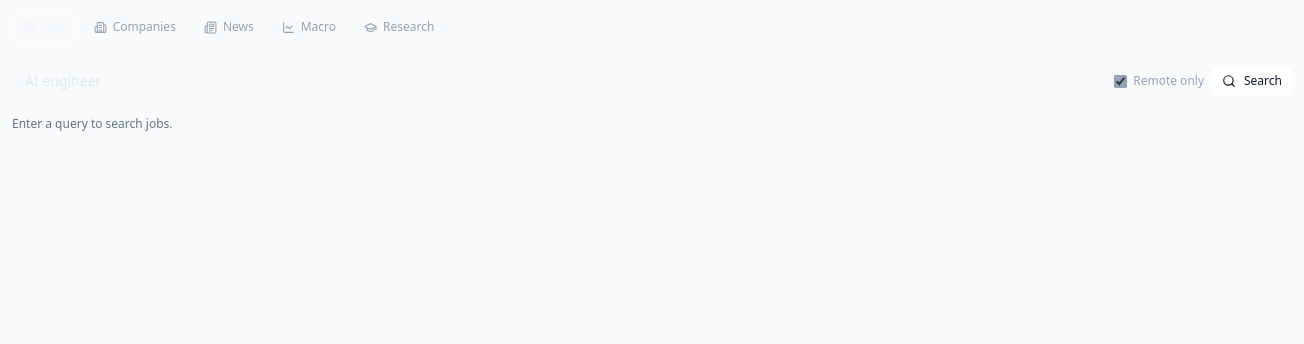
Test: scholarly card renders every verified field › renders 'Not available' for every missing field instead of hiding it
Click the tab "Research" at (399,27), box x1=353 y1=12 x2=446 y2=42
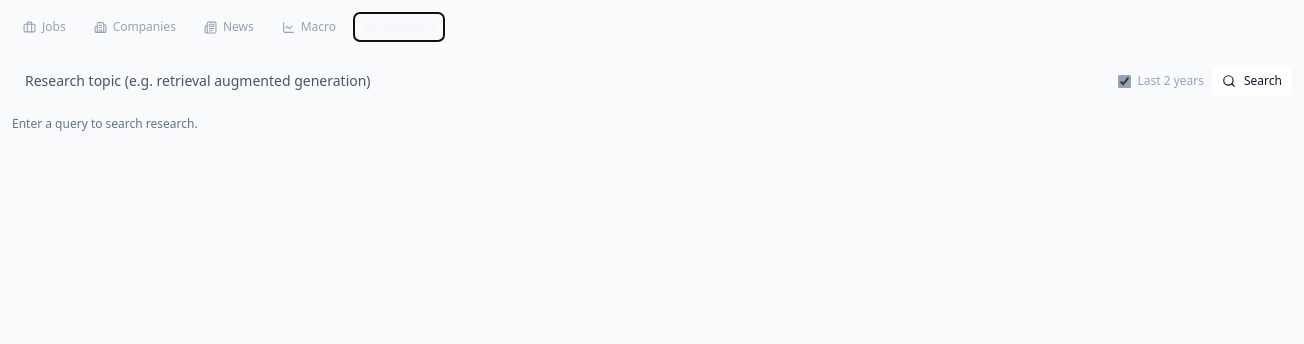
Type "ai" into the field with placeholder "Research topic (e.g. retrieval augmented generation)" at (561,81), box x1=12 y1=62 x2=1110 y2=100
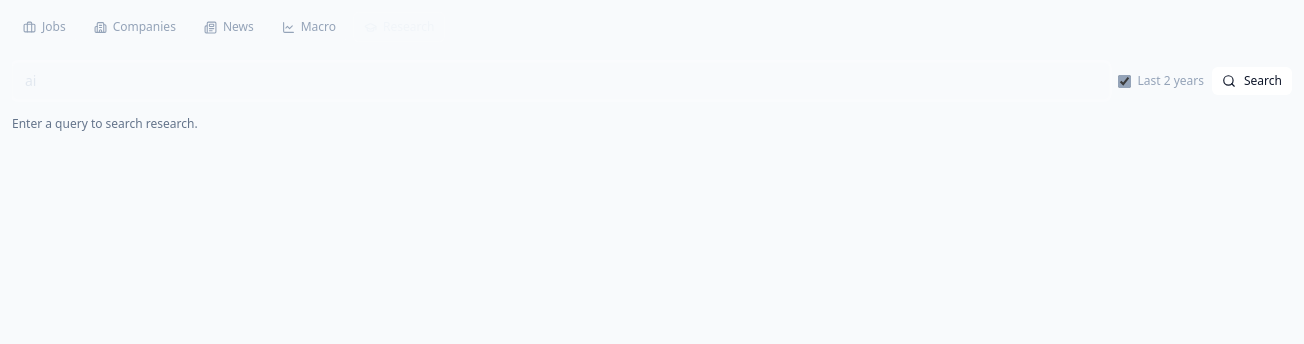
Click the button "Search" at (1252,81), box x1=1212 y1=67 x2=1292 y2=95
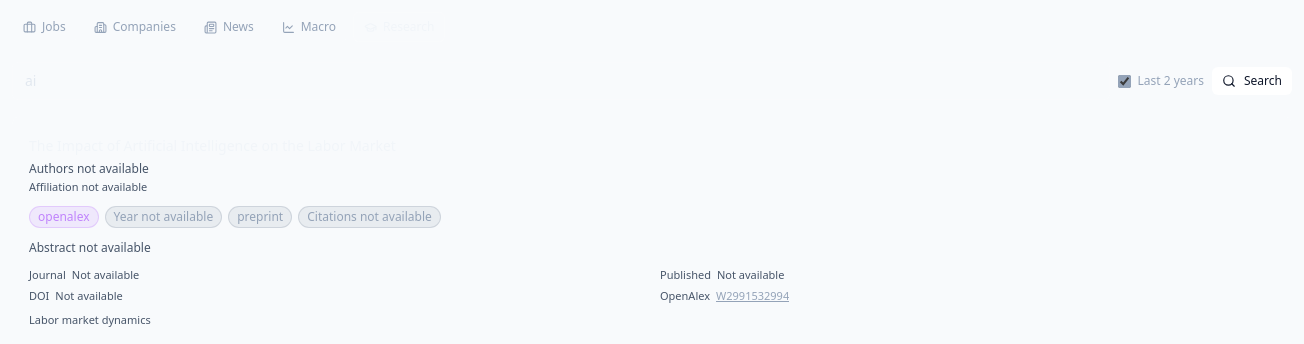
Result: the text "Authors not available" is shown at x1=29 y1=160 x2=149 y2=177
Result: the text "Affiliation not available" is shown at x1=29 y1=179 x2=147 y2=194
Result: the text "Abstract not available" is shown at x1=29 y1=238 x2=151 y2=256
